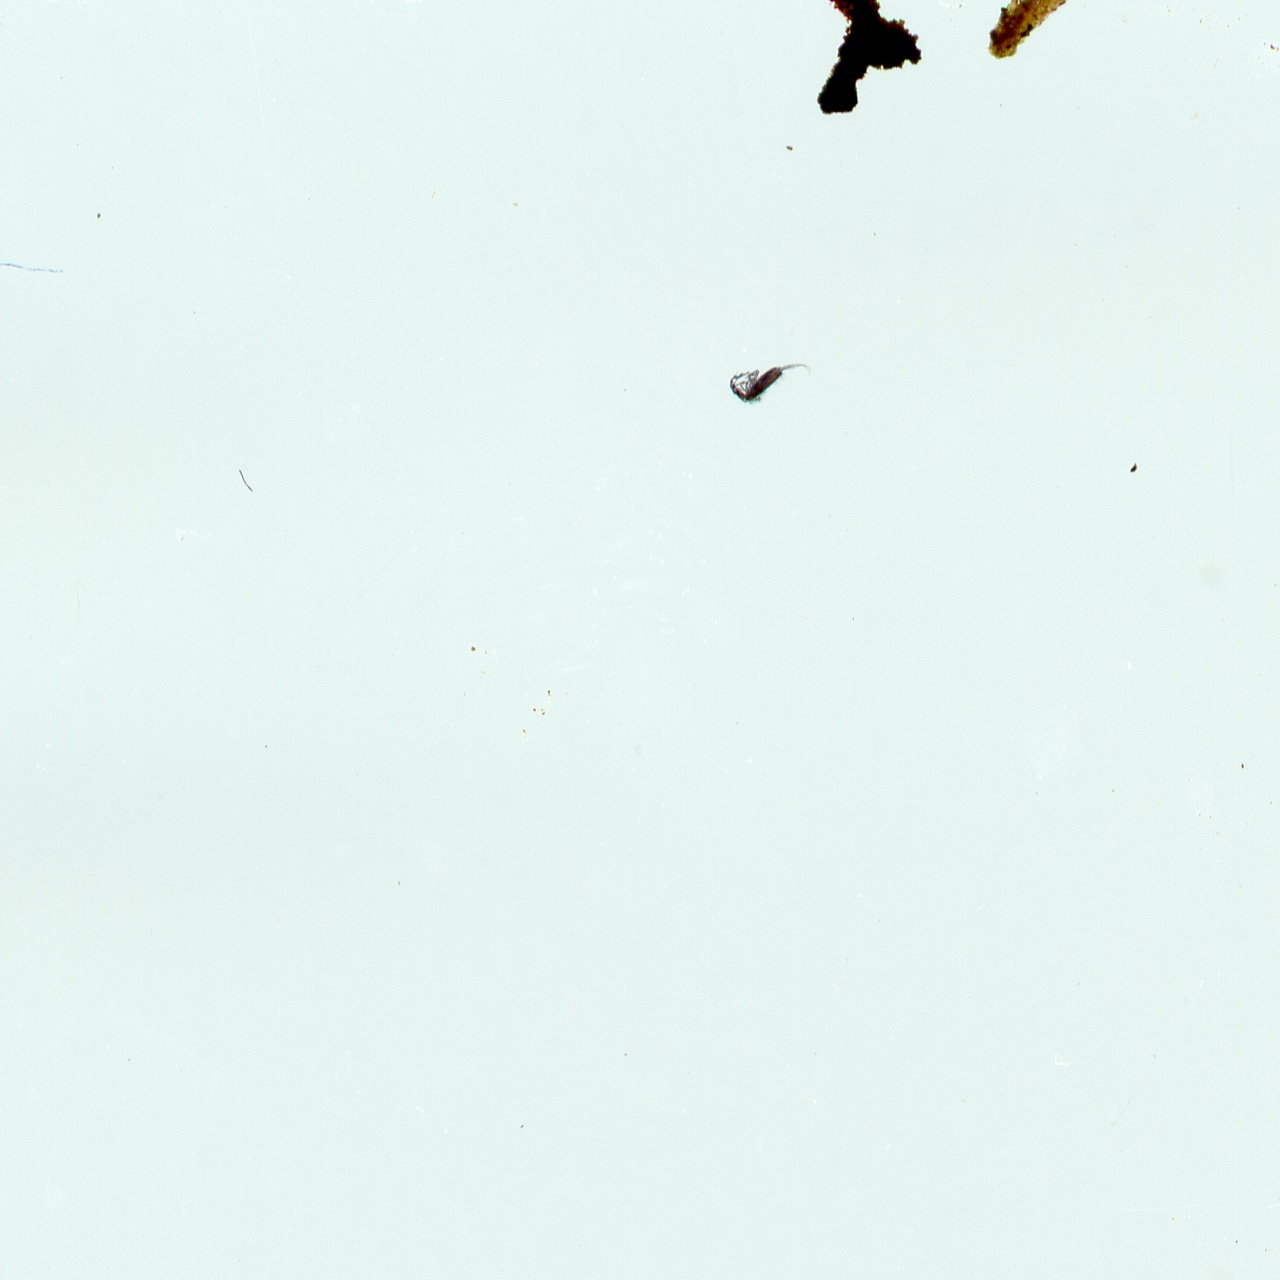arthropod: (729, 363, 812, 406)
